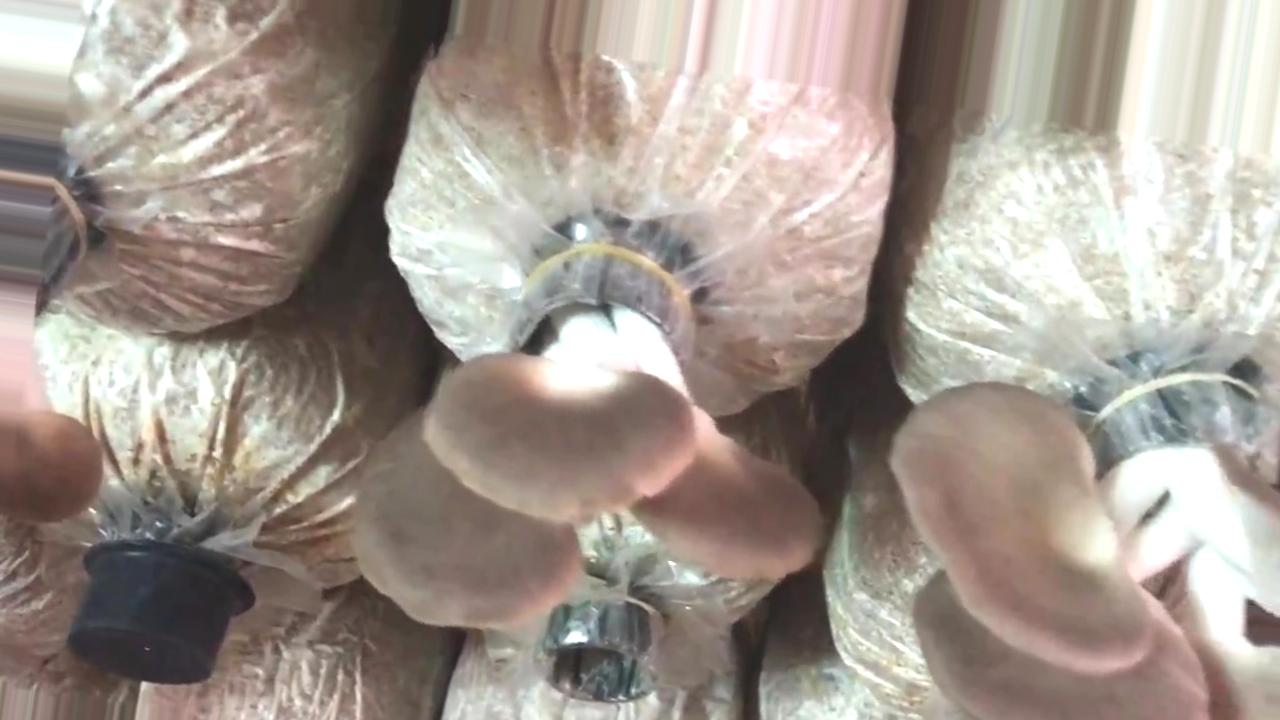nam: (356, 248, 813, 624), (890, 380, 1277, 719), (1, 153, 98, 519)
